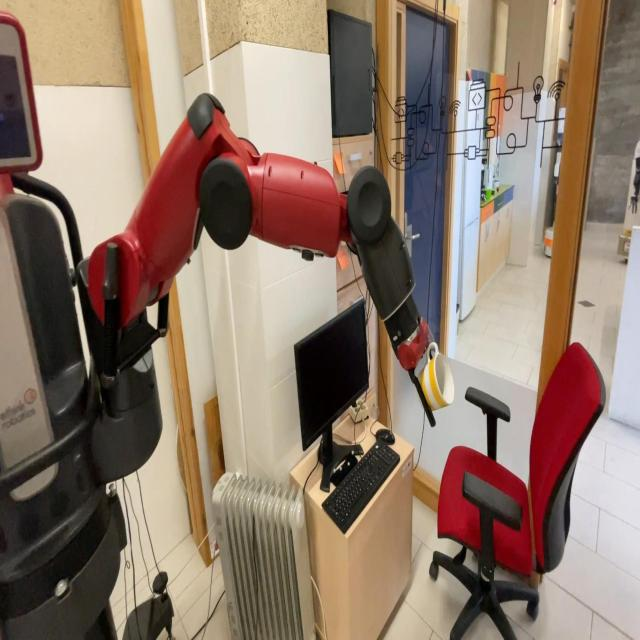cup: (412, 342, 456, 412)
